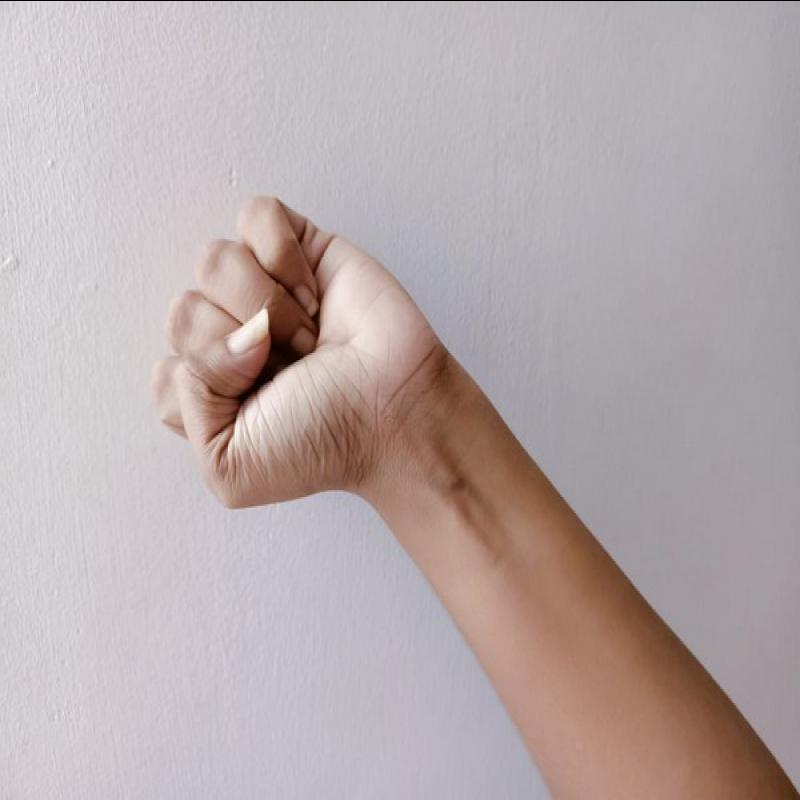Mushti: (103, 181, 429, 522)
